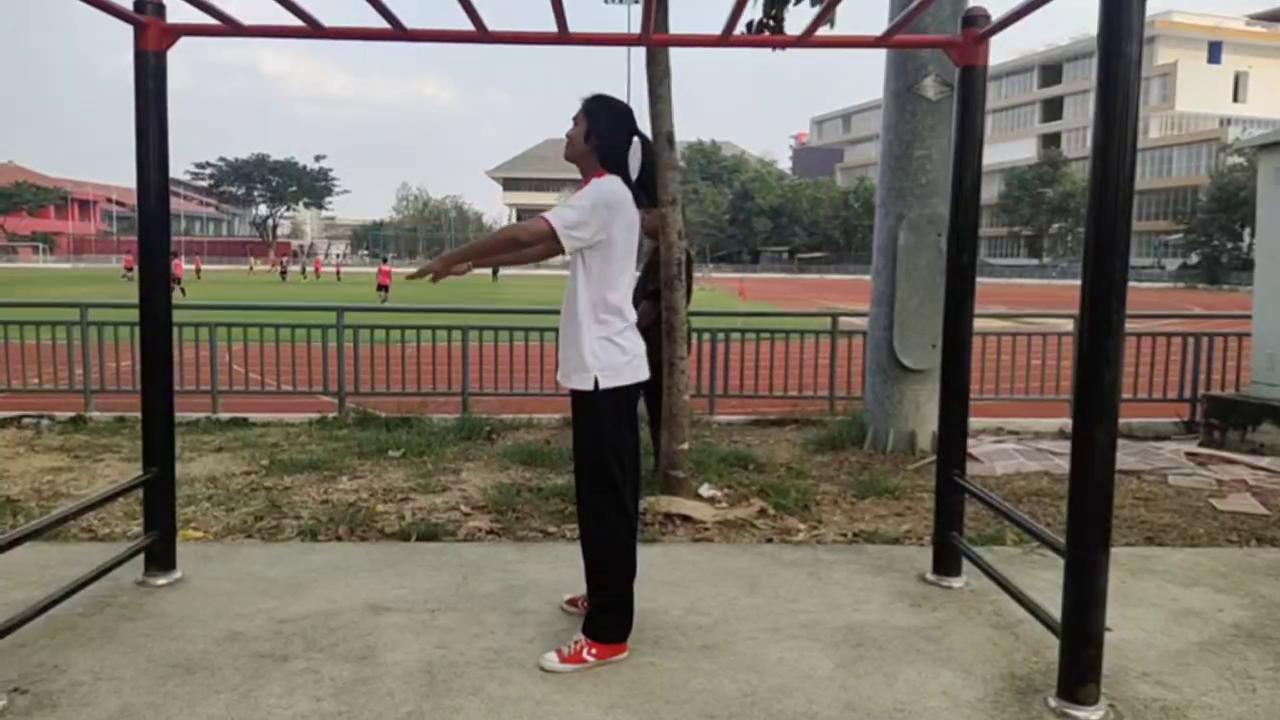squat up: (376, 96, 665, 674)
